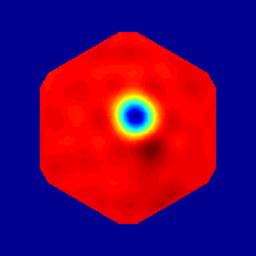ship: (124, 101, 147, 128)
wave: (129, 119, 153, 148)
